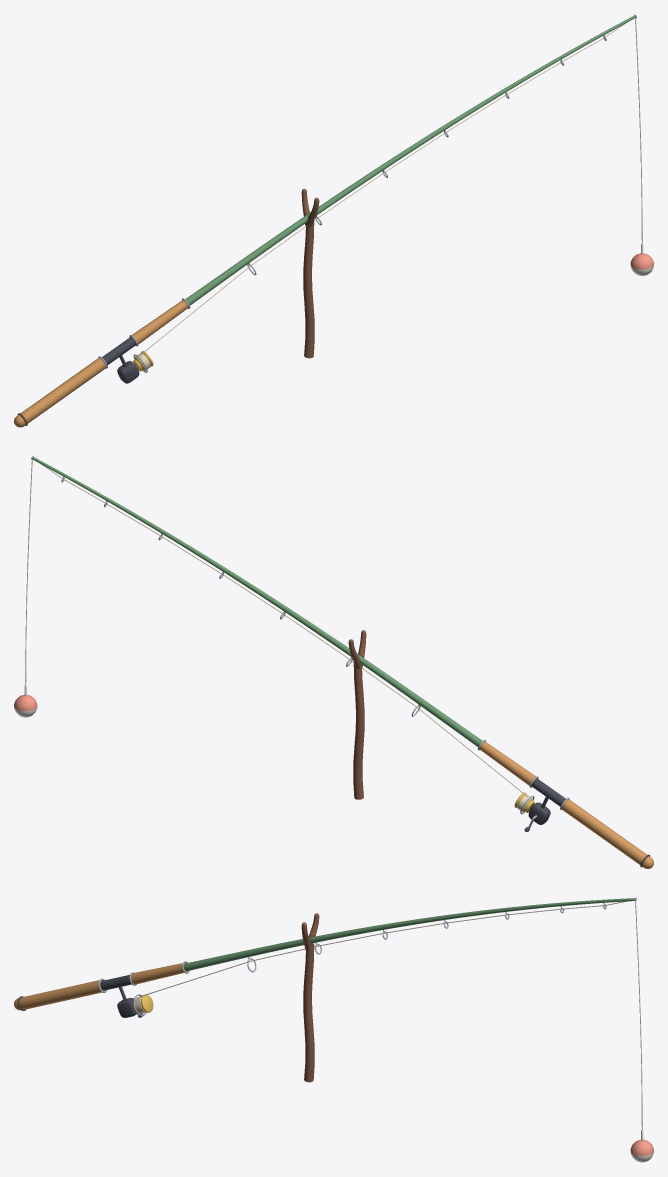
Rendered from fishing-rod.glb.
The picture shows the model from 3 angles, top to bottom: view 1: azimuth 30°, elevation 25°; view 2: azimuth 150°, elevation 25°; view 3: azimuth 330°, elevation 25°; orthographic projection.
Visible parts, largest first — view 1: fishing-rod_body; view 2: fishing-rod_body; view 3: fishing-rod_body.
Part boxes in pixels (bbox=[...]): fishing-rod_body: bbox=[14, 14, 653, 427]; fishing-rod_body: bbox=[14, 456, 653, 868]; fishing-rod_body: bbox=[14, 897, 653, 1162].
Bounding box in the file's own units: 1.9 × 0.7465 × 0.0865.
1 material, 1 textured.
